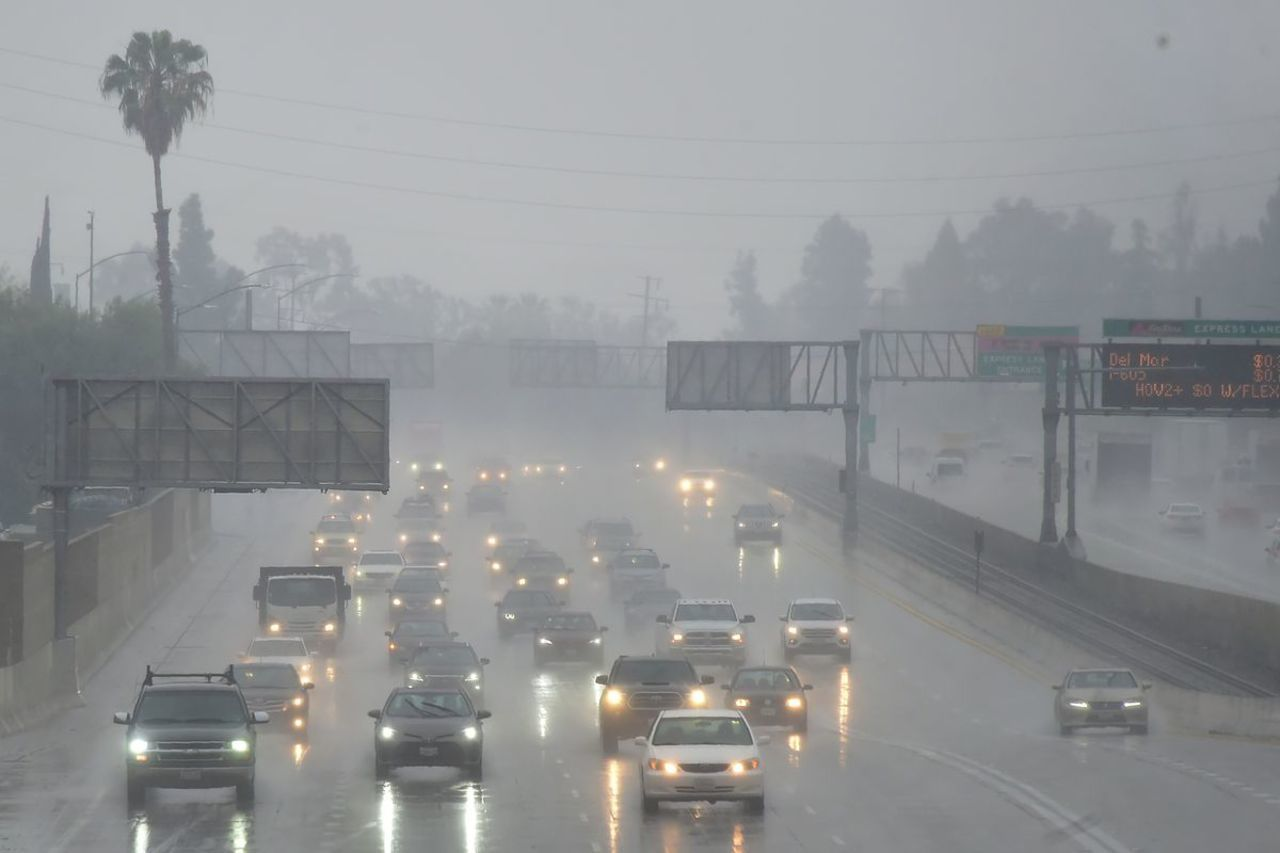car: (121, 677, 261, 809), (634, 707, 766, 813), (596, 653, 712, 756), (370, 683, 488, 784), (1052, 667, 1150, 737), (727, 666, 810, 739), (655, 598, 757, 655), (229, 659, 310, 723), (402, 643, 490, 697), (779, 596, 854, 659), (532, 619, 606, 667), (495, 592, 565, 634), (383, 618, 457, 657), (605, 552, 674, 593), (731, 499, 785, 547), (256, 629, 309, 677), (507, 556, 577, 592), (306, 519, 358, 563), (355, 546, 404, 589), (385, 579, 447, 612), (580, 519, 644, 550), (400, 542, 454, 578), (1158, 500, 1207, 535), (390, 503, 447, 532), (621, 592, 666, 626), (463, 485, 509, 516), (486, 547, 532, 577), (923, 461, 968, 490), (414, 468, 453, 500), (677, 468, 717, 496), (1001, 456, 1041, 478)
truck: (254, 570, 351, 655), (1083, 435, 1152, 507)
